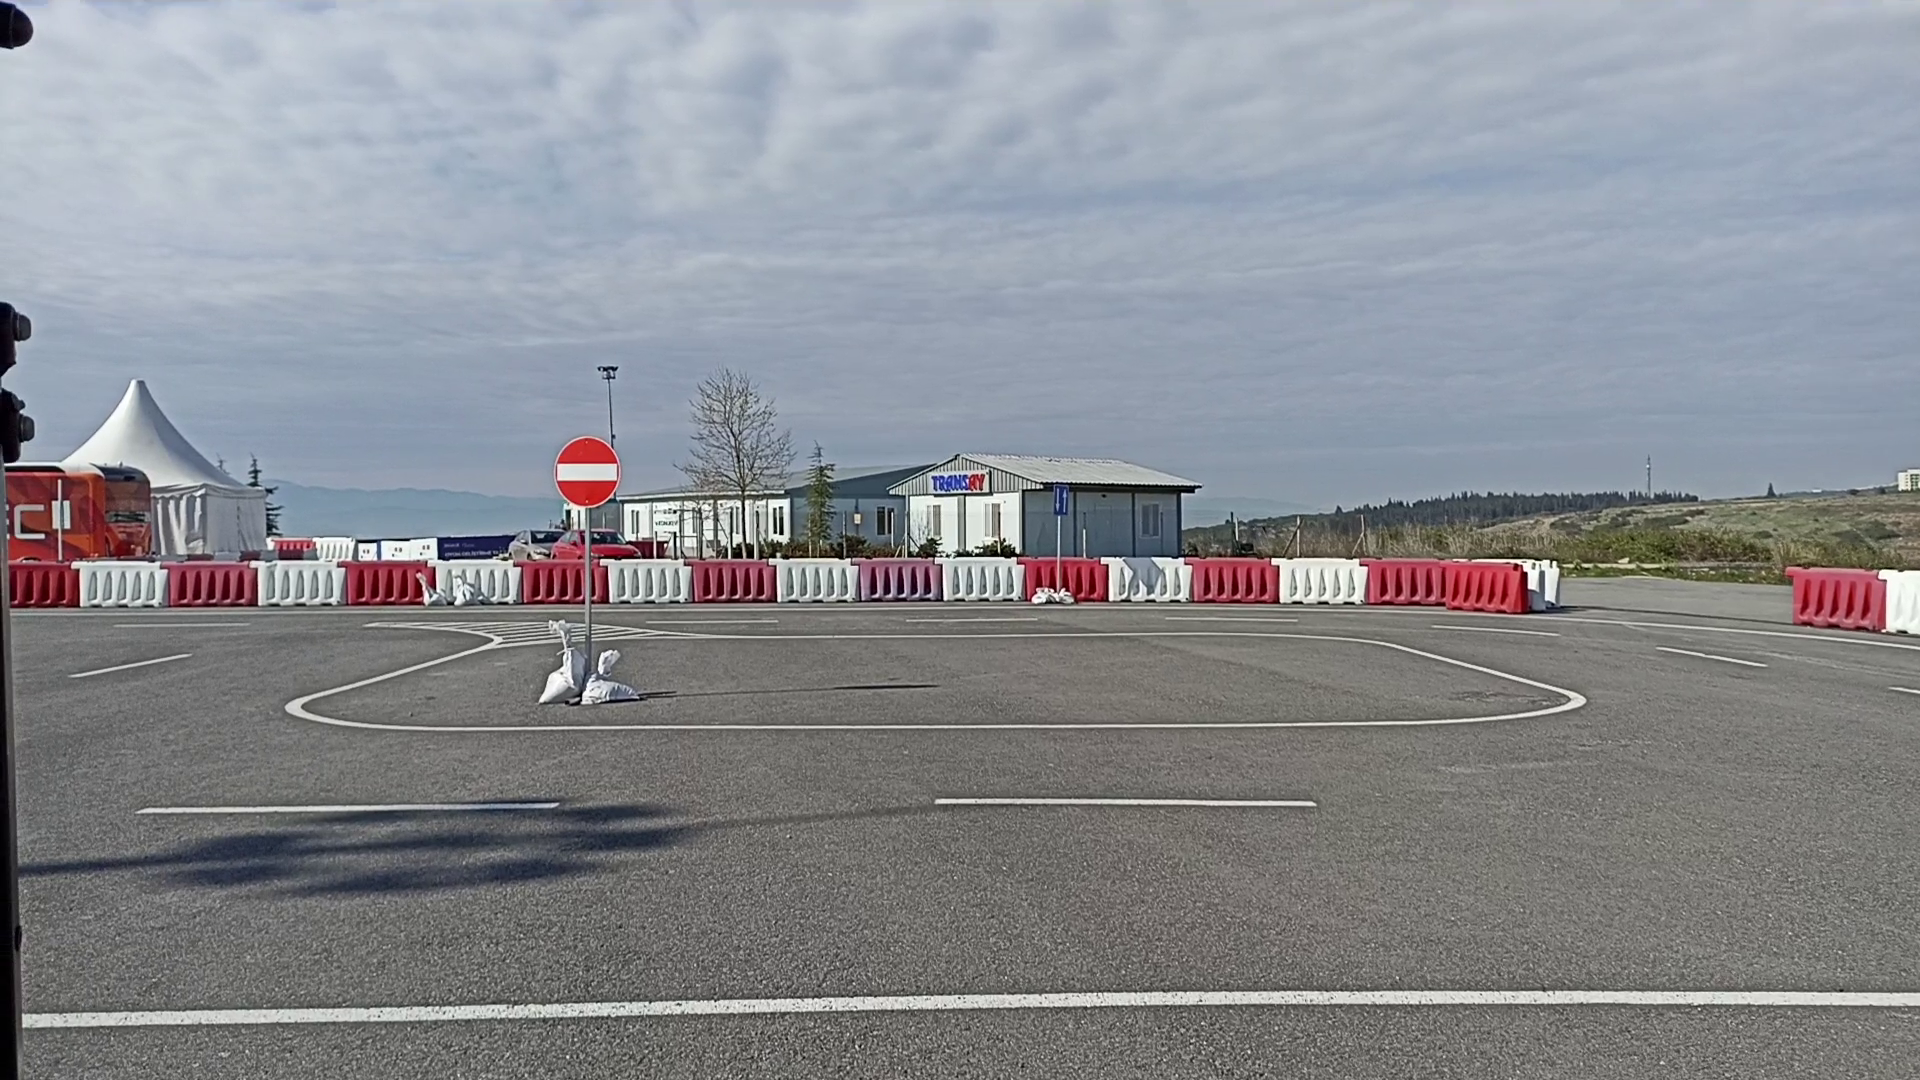noentryway: (551, 434, 622, 509)
